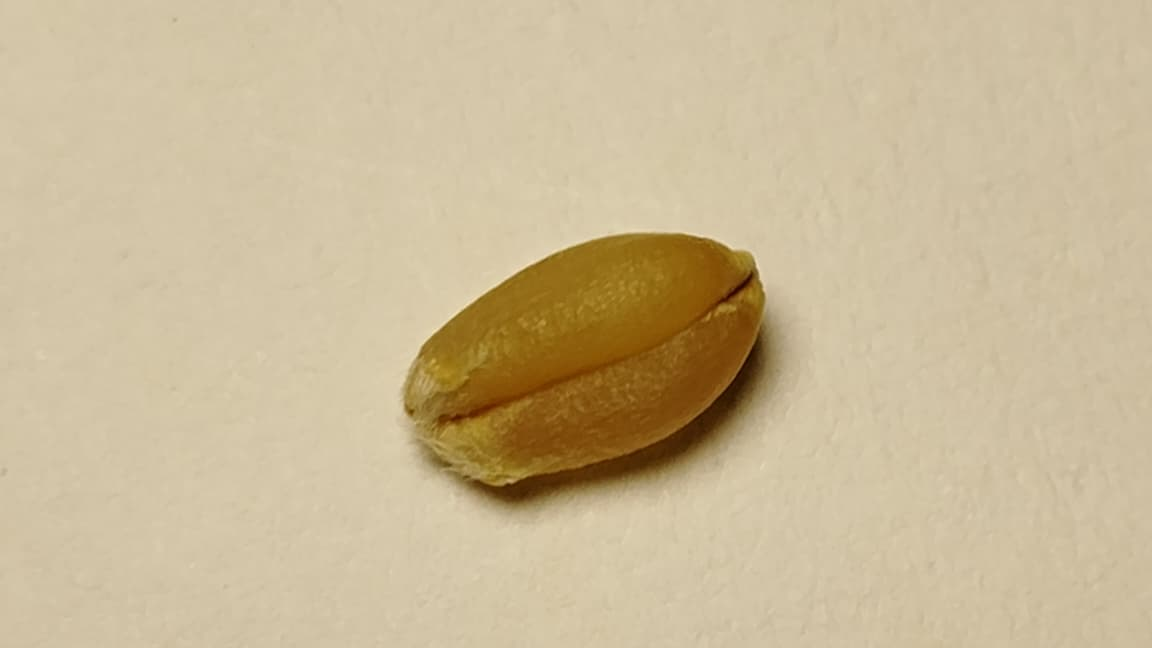healthy: (404, 233, 762, 484)
